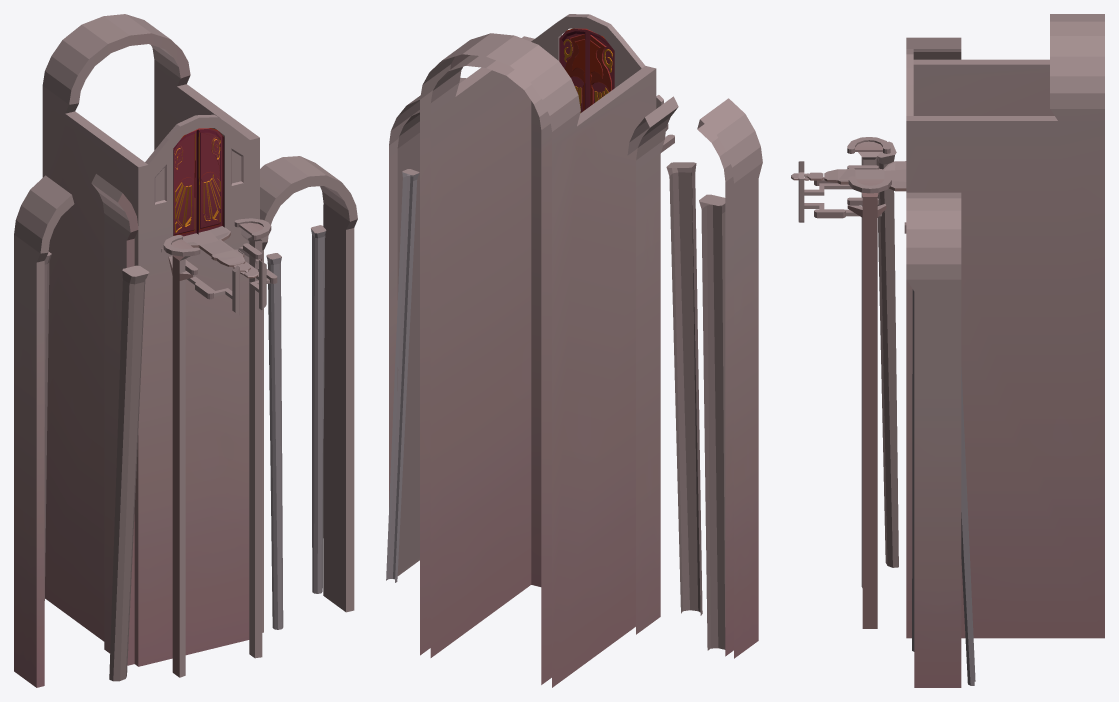
The model's file is PT_Sce_01_b.FBX.
The picture shows the model from 3 angles, left to right: view 1: azimuth 30°, elevation 25°; view 2: azimuth 150°, elevation 25°; view 3: azimuth 270°, elevation 25°; orthographic projection. The views are drawn at different scales.
Visible parts, largest first — view 1: PT_Sce_01_b; view 2: PT_Sce_01_b; view 3: PT_Sce_01_b.
Boxes of the visible parts, bbox=[...] form: PT_Sce_01_b: bbox=[14, 14, 357, 687]; PT_Sce_01_b: bbox=[386, 14, 762, 687]; PT_Sce_01_b: bbox=[791, 14, 1104, 687].
Size of the model in its own units: 4565 by 7771 by 3774.
